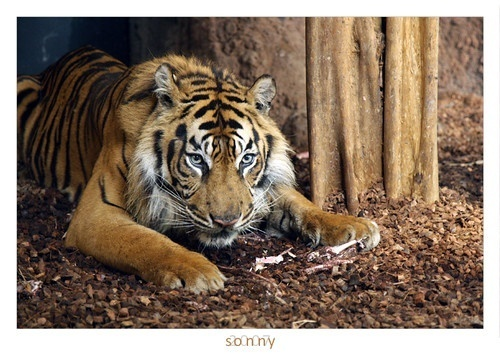tigre: (18, 43, 381, 294)
